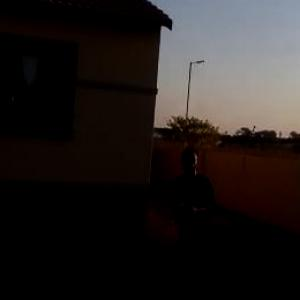follow: (157, 140, 221, 298)
